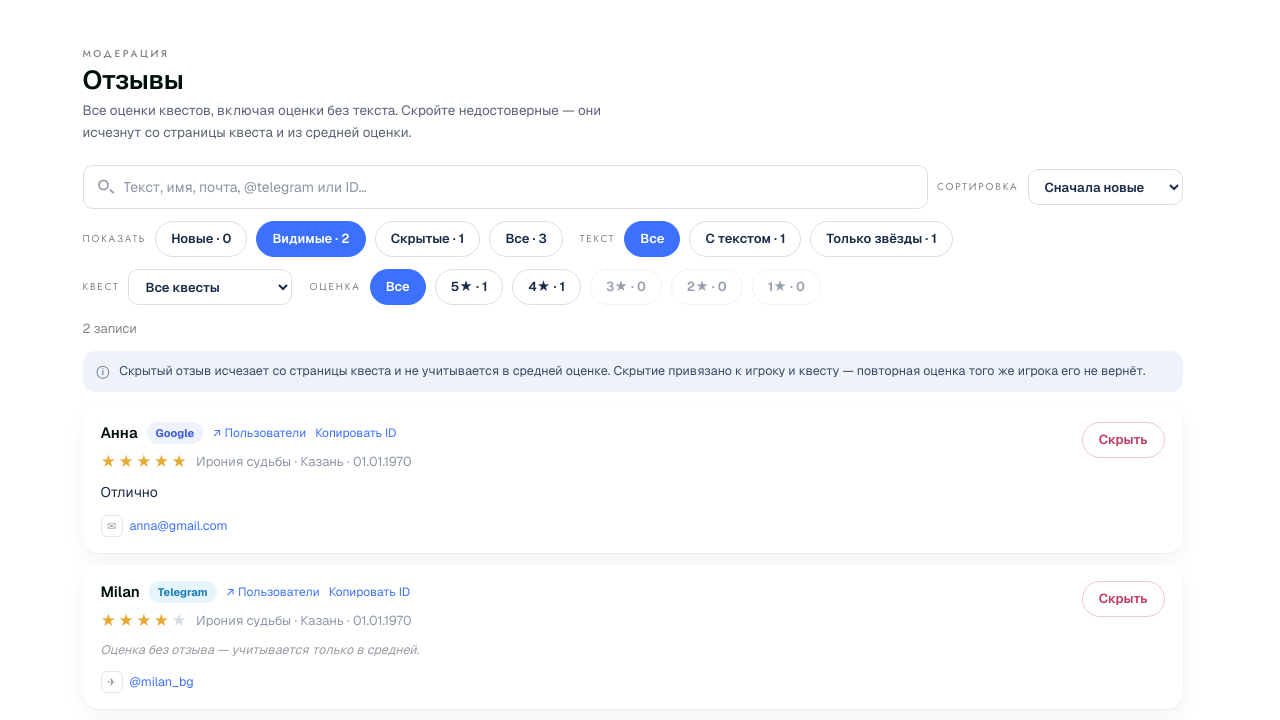
Test case: AdminReviewsPage › summarizes the picked quest as the site shows it
The image size is (1280, 720).
Expected: the text "Отлично" is shown, [100,483,158,501]
Step 1. Select "Ирония судьбы · 2" in the dropdown named "Квест" → (210, 287), box [128,269,292,305]
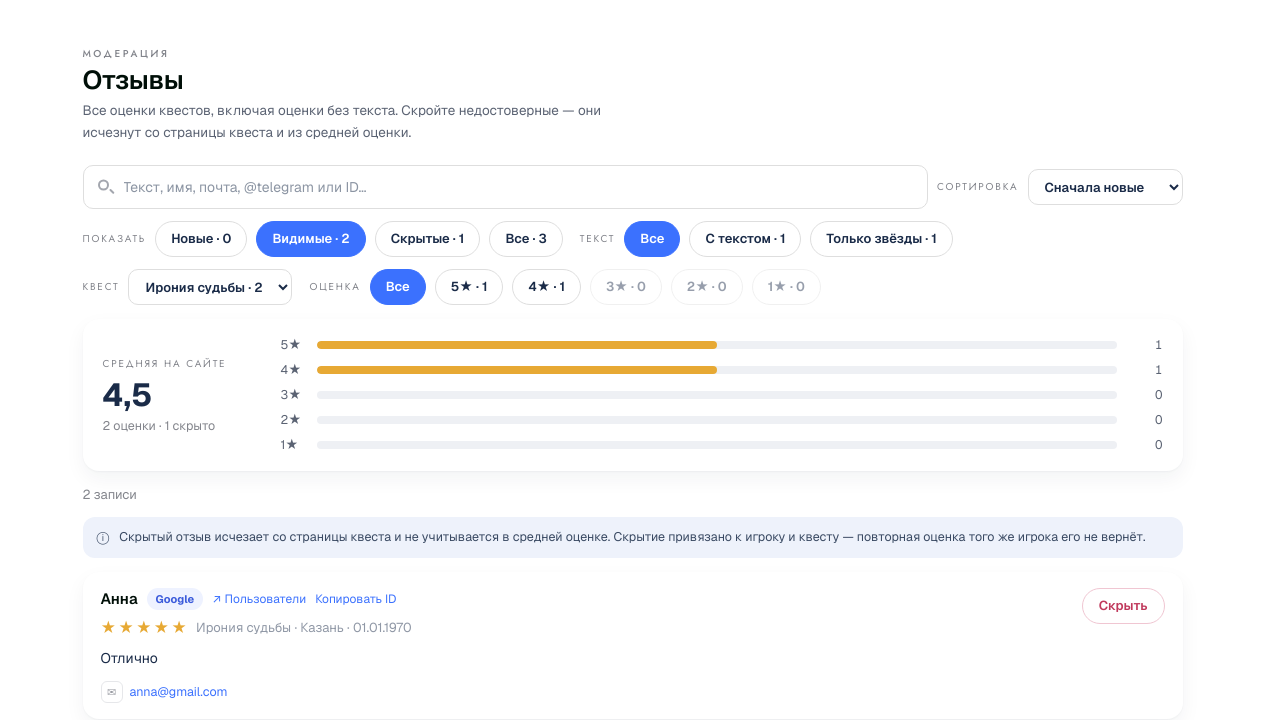
Expected: the element named "Сводка по квесту" shows "4,5", [102,374,152,415]
Expected: the element named "Сводка по квесту" shows "2 оценки · 1 скрыто", [82,319,1182,471]
